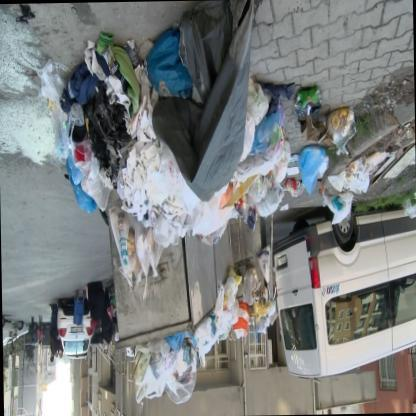Garbage: (35, 0, 364, 227), (239, 78, 297, 230), (128, 336, 220, 404), (124, 135, 194, 218), (47, 138, 113, 224), (107, 194, 163, 286), (196, 277, 273, 343), (202, 157, 242, 219), (335, 149, 386, 195), (326, 108, 358, 162), (294, 146, 322, 200), (318, 198, 358, 228), (241, 266, 257, 310), (260, 244, 270, 288)
